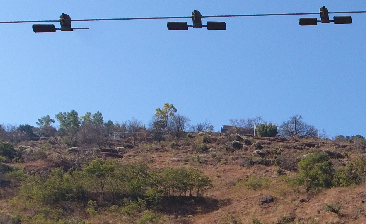damper: (163, 8, 229, 32), (296, 5, 354, 26)
damper_defect: (30, 12, 91, 33)
